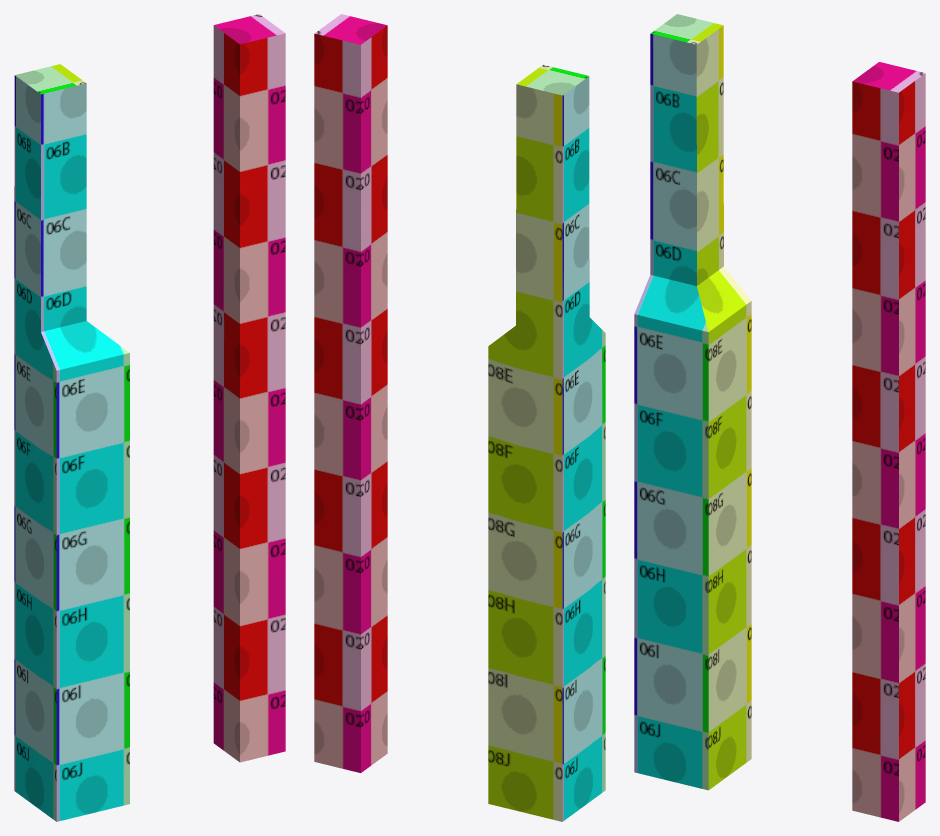
The model's file is Mod_Module_1_Corner_BottomCorner.fbx.
3 views of the same model, side by side, from view 1: azimuth 30°, elevation 25°; view 2: azimuth 150°, elevation 25°; view 3: azimuth 330°, elevation 25° (orthographic).
Parts seen in each view (by area): view 1: alpha_module_corner_BottomAndCorner:pCube2, alpha_module_corner_BottomAndCorner:pCube1; view 2: alpha_module_corner_BottomAndCorner:pCube2, alpha_module_corner_BottomAndCorner:pCube1; view 3: alpha_module_corner_BottomAndCorner:pCube2, alpha_module_corner_BottomAndCorner:pCube1.
Boxes of the visible parts, <box> form: alpha_module_corner_BottomAndCorner:pCube2: <box>14,64,129,821</box>; alpha_module_corner_BottomAndCorner:pCube1: <box>213,14,285,762</box>; alpha_module_corner_BottomAndCorner:pCube2: <box>488,64,605,821</box>; alpha_module_corner_BottomAndCorner:pCube1: <box>314,14,387,772</box>; alpha_module_corner_BottomAndCorner:pCube2: <box>634,14,751,790</box>; alpha_module_corner_BottomAndCorner:pCube1: <box>852,62,925,821</box>.
Size of the model in its own units: 107 by 300 by 32.11.
Materials: 2 (2 with a texture image).
